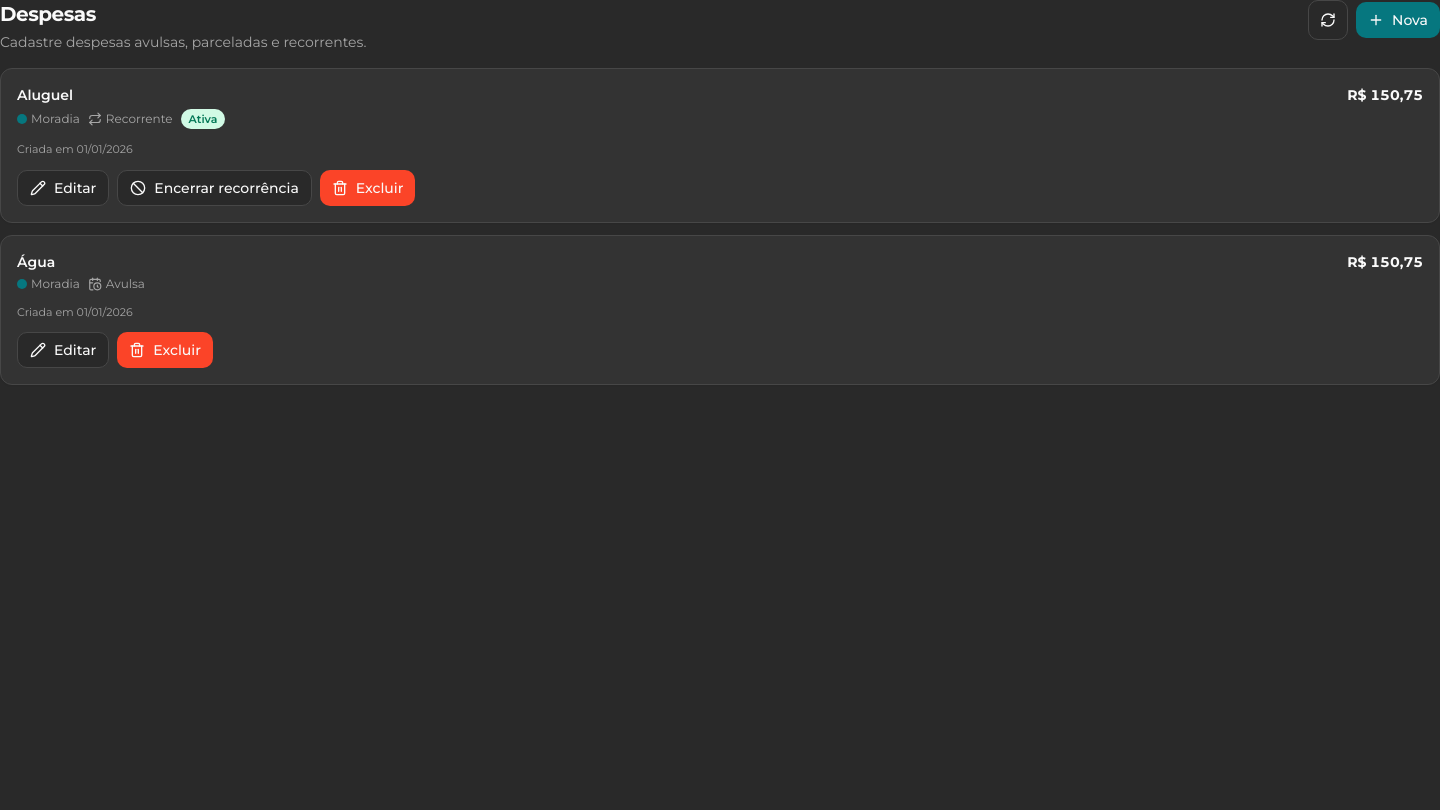
it: ExpensesPage — edição de despesas (TAREFA 12) › permite editar uma despesa SINGLE após editar uma RECURRENT
# Edita a RECURRENT.
Click the button with test id "expense-card-edit" at coordinates (63, 188), box [17,170,109,206]
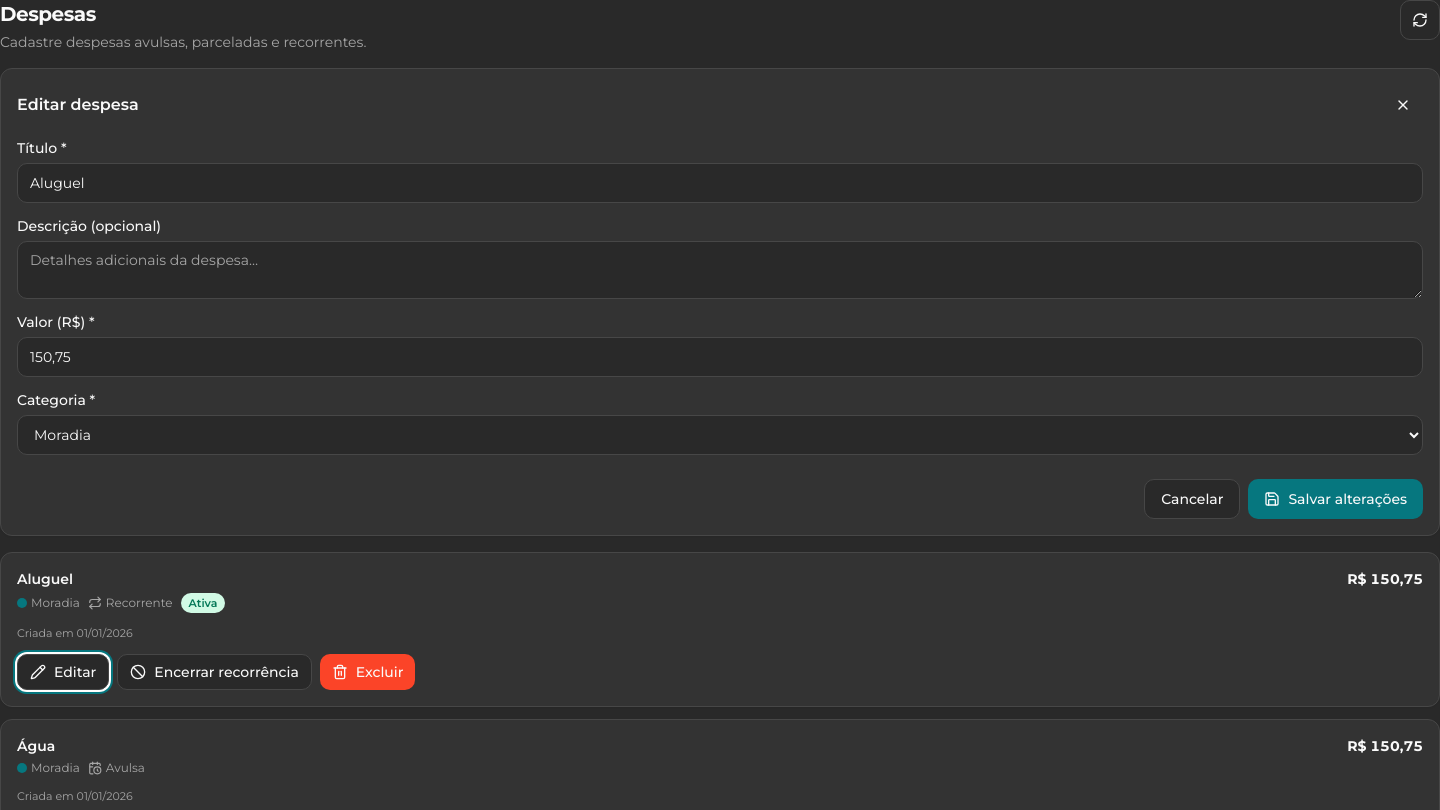
Check: the form with test id "expense-form" is shown, box [17,141,1423,519]
Check: the field with test id "expense-form-title" holds "Aluguel", box [17,163,1423,203]
# Fecha o formulário.
Click the button named "Fechar formulário" at coordinates (1403, 105), box [1383,85,1423,125]
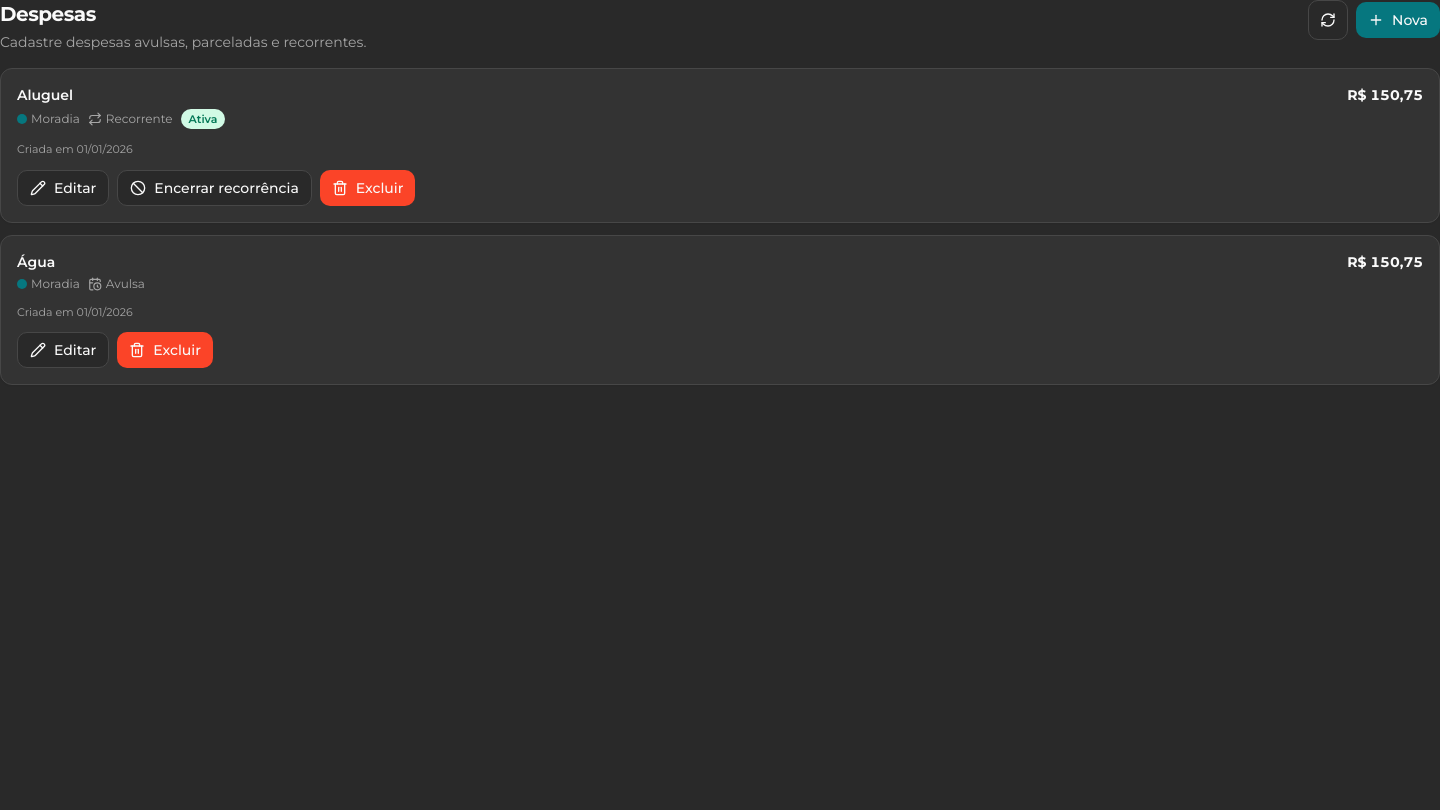
# Edita a SINGLE em seguida — não deve estar bloqueado.
Click the button with test id "expense-card-edit" at coordinates (63, 350), box [17,332,109,368]
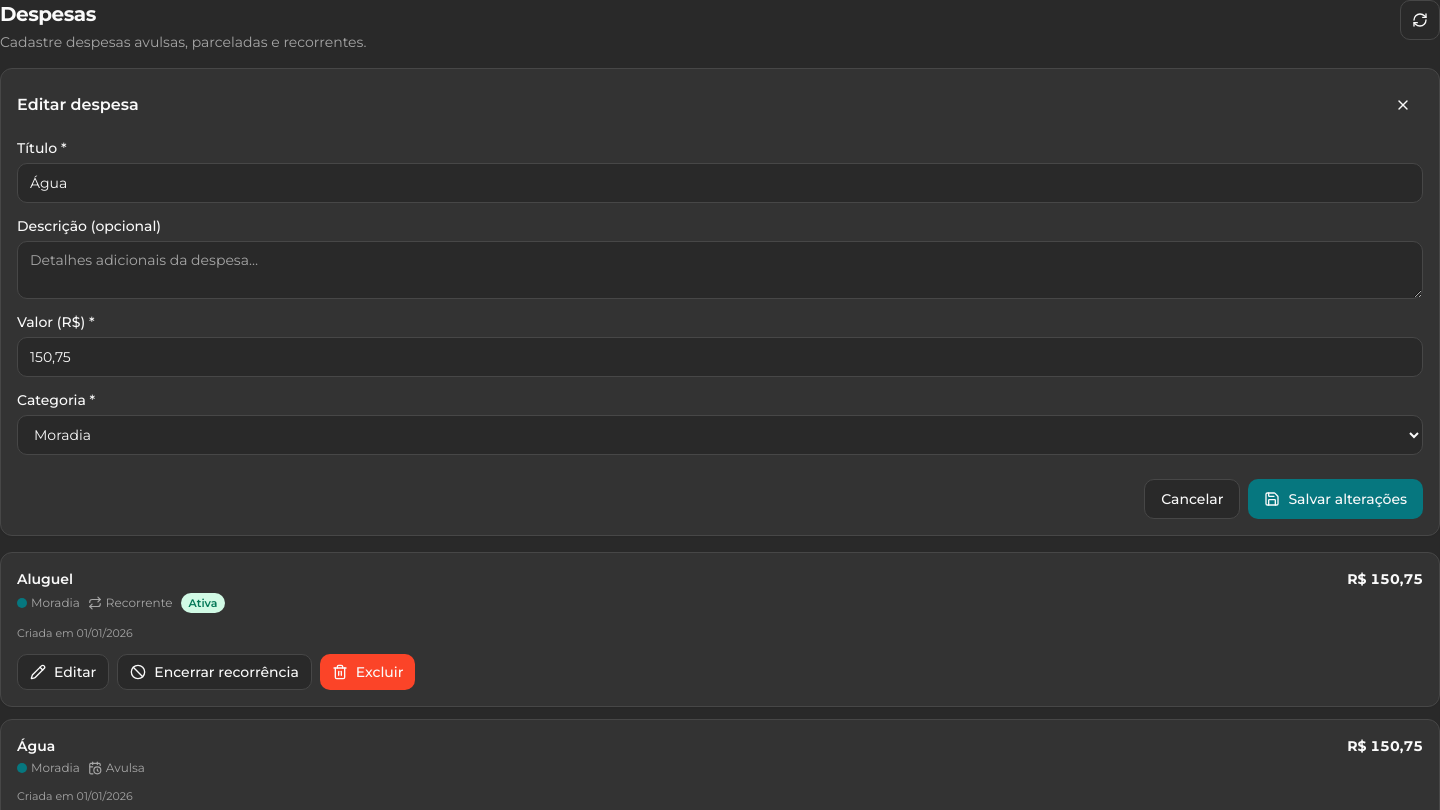
Check: the field with test id "expense-form-title" holds "Água", box [17,163,1423,203]
